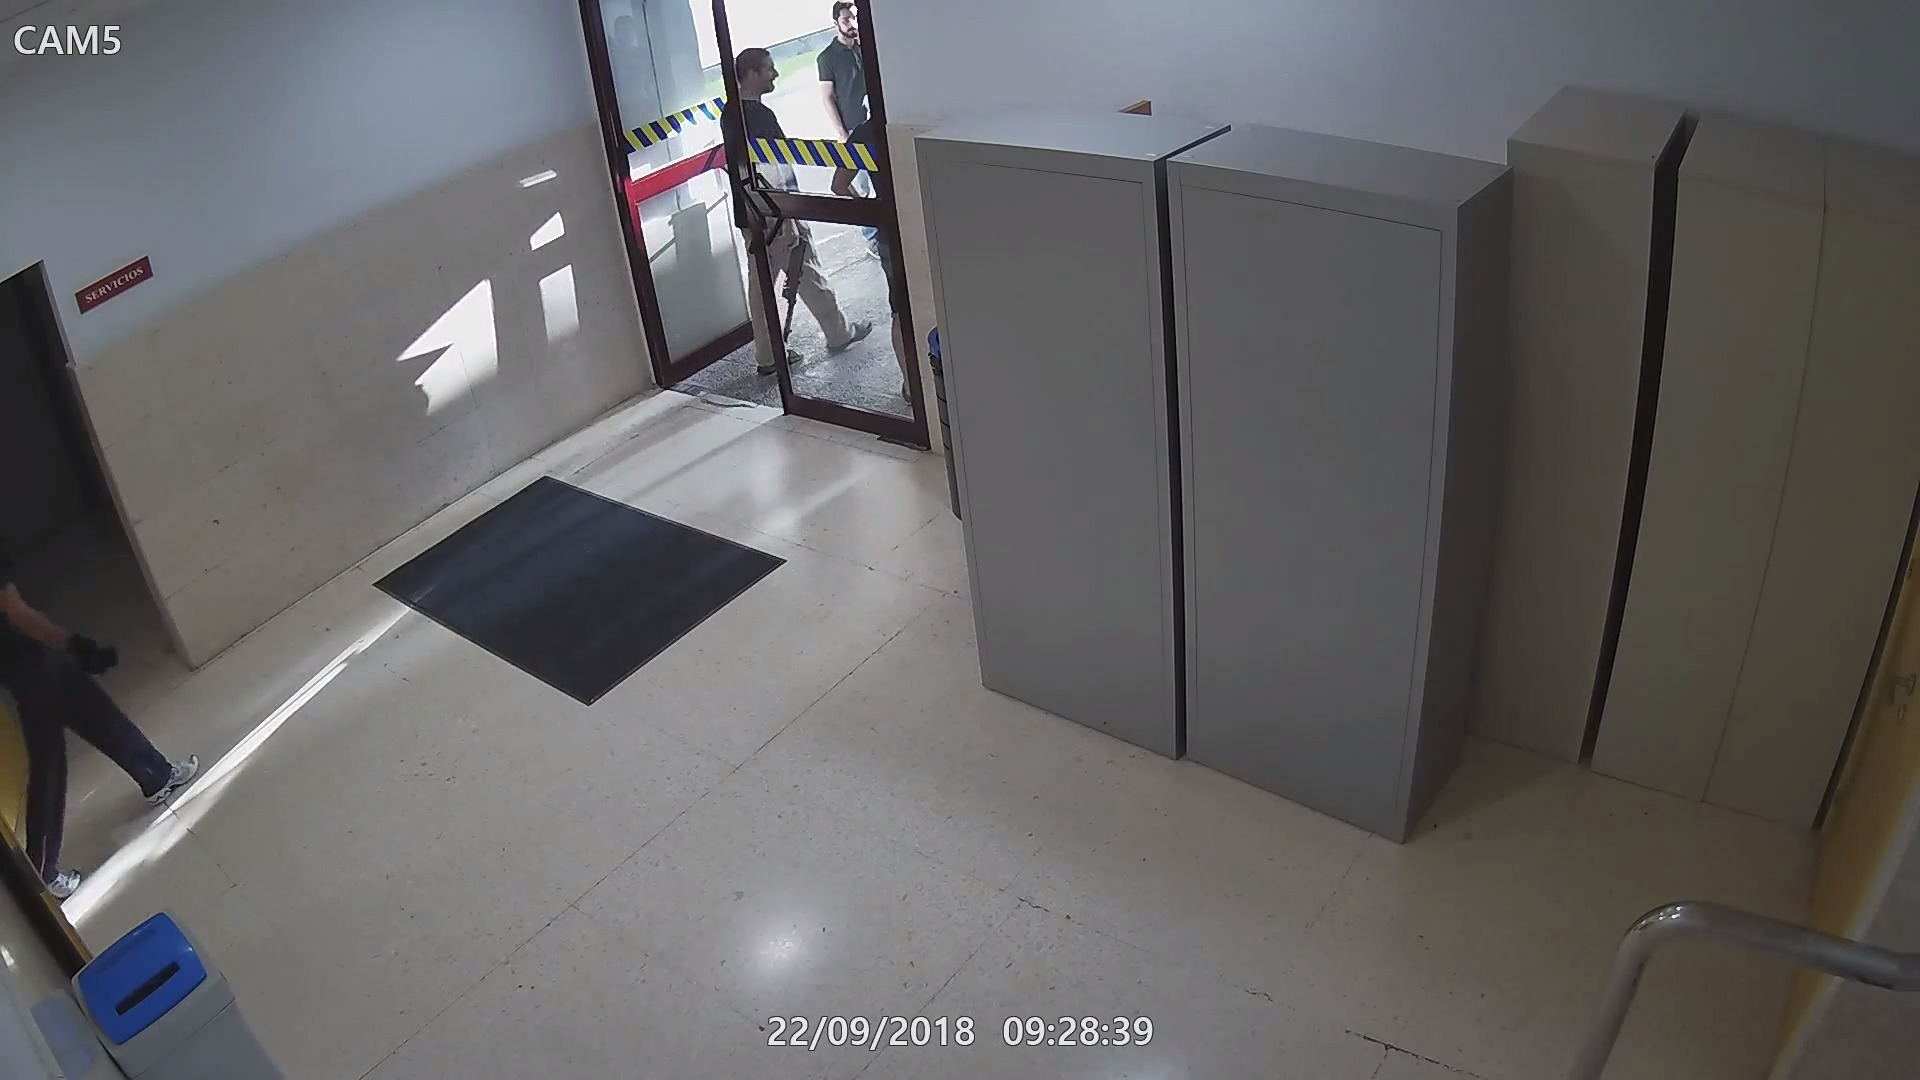Short_rifle: (777, 224, 810, 348)
